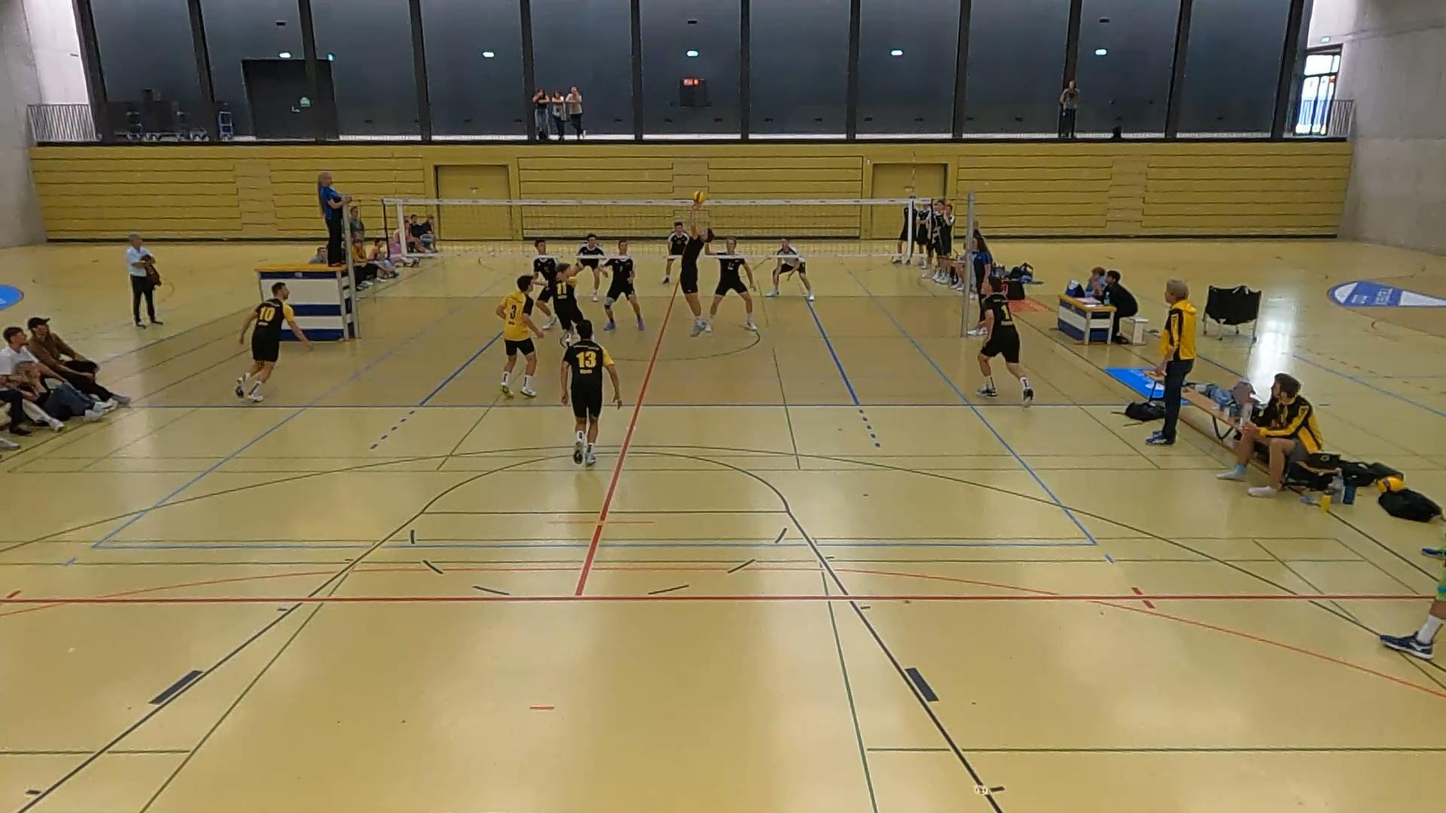alzata: (659, 217, 719, 340)
